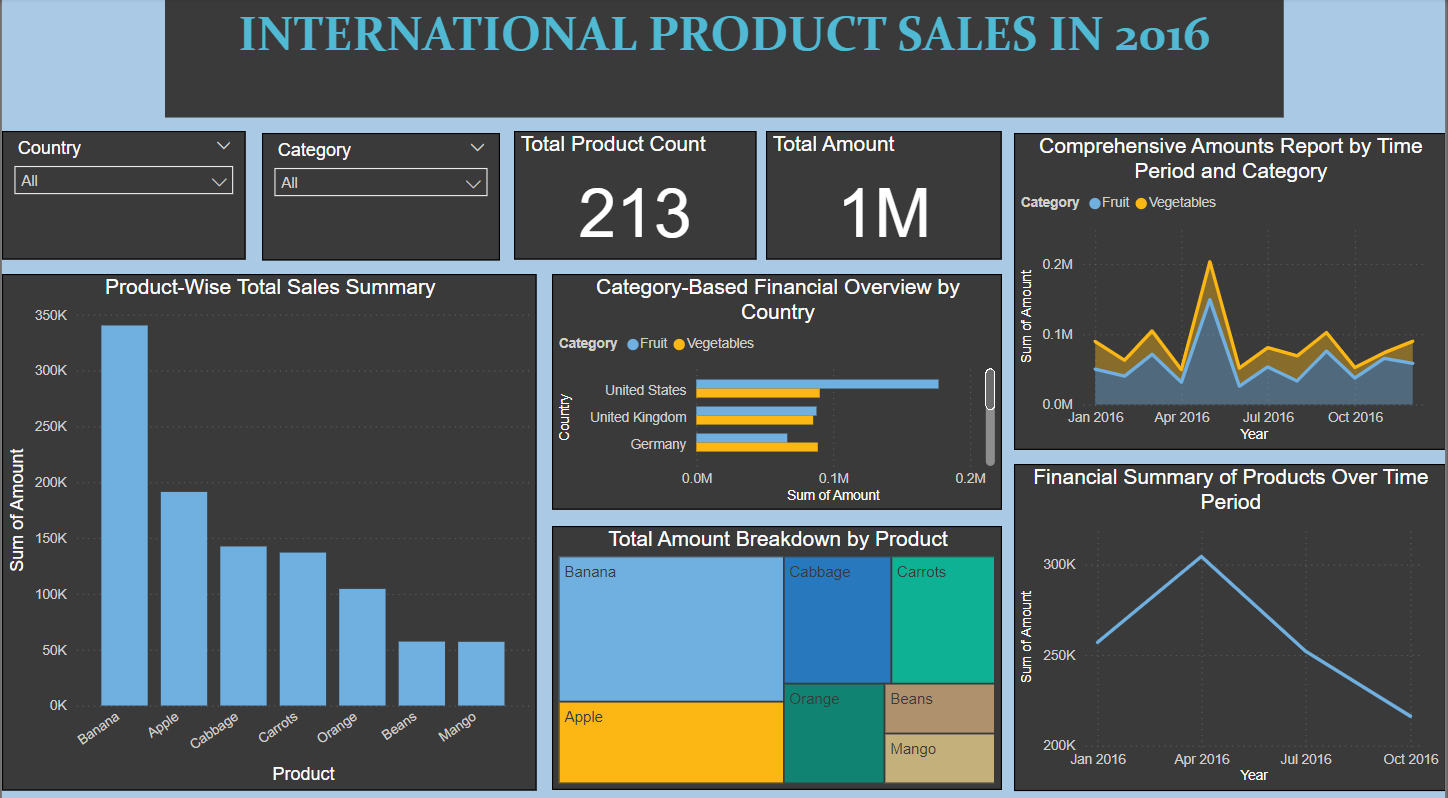

What the dashboard file says about the page in this screenshot:
{"tool":"powerbi","page":{"name":"Page 1","canvas":[1280,720],"ordinal":0},"visuals":[{"type":"lineChart","title":"Financial Summary of Products Over Time Period","fields":{"Category":["Table1 (2).Date.Variation.Date Hierarchy.Year","Table1 (2).Date.Variation.Date Hierarchy.Quarter","Table1 (2).Date.Variation.Date Hierarchy.Month","Table1 (2).Date.Variation.Date Hierarchy.Day"],"Y":["Sum(Table1 (2).Amount)"]},"box":[897.4,413,382.6,289.6],"z":0},{"type":"columnChart","title":"Product-Wise Total Sales Summary","fields":{"Category":["Table1 (2).Product"],"Y":["Sum(Table1 (2).Amount)"]},"box":[0,244.9,473.7,457.7],"z":1000},{"type":"treemap","title":"Total Amount Breakdown  by Product","fields":{"Values":["Sum(Table1 (2).Amount)"],"Group":["Table1 (2).Product"]},"box":[488,468.4,398.7,234.2],"z":2000},{"type":"card","title":"Total Product Count","fields":{"Values":["CountNonNull(Table1 (2).Order ID)"]},"box":[454.1,118,214.5,114.4],"z":3000},{"type":"clusteredBarChart","title":"Category-Based Financial Overview by Country ","fields":{"Category":["Table1 (2).Country"],"Y":["Sum(Table1 (2).Amount)"],"Series":["Table1 (2).Category"]},"box":[488,244.9,398.7,209.2],"z":4000},{"type":"stackedAreaChart","title":"Comprehensive Amounts Report by Time Period and Category","fields":{"Category":["Table1 (2).Date.Variation.Date Hierarchy.Year","Table1 (2).Date.Variation.Date Hierarchy.Quarter","Table1 (2).Date.Variation.Date Hierarchy.Month","Table1 (2).Date.Variation.Date Hierarchy.Day"],"Y":["Sum(Table1 (2).Amount)"],"Series":["Table1 (2).Category"]},"box":[897.4,119.8,382.6,280.7],"z":6000},{"type":"textbox","box":[144.1,0,991.8,105.6],"z":7000},{"type":"slicer","fields":{"Values":["Table1 (2).Country"]},"box":[0,118,216.3,114.4],"z":8000},{"type":"slicer","fields":{"Values":["Table1 (2).Category"]},"box":[230.6,119.8,210.9,112.6],"z":9000},{"type":"card","title":"Total Amount","fields":{"Values":["Sum(Table1 (2).Amount)"]},"box":[677.5,118,209.2,114.4],"z":10000}]}

Visuals, with their boxes in screenshot pixels (x1, y1, x2, y2), scaled from the page's 1280x720 canvas onto the 1448x798 screenshot:
"Financial Summary of Products Over Time Period" lineChart: 1015,458,1447,779
"Product-Wise Total Sales Summary" columnChart: 0,271,536,779
"Total Amount Breakdown  by Product" treemap: 552,519,1003,779
"Total Product Count" card: 514,131,756,258
"Category-Based Financial Overview by Country " clusteredBarChart: 552,271,1003,503
"Comprehensive Amounts Report by Time Period and Category" stackedAreaChart: 1015,133,1447,444
textbox: 163,0,1285,117
slicer - Table1 (2).Country: 0,131,245,258
slicer - Table1 (2).Category: 261,133,499,258
"Total Amount" card: 766,131,1003,258
